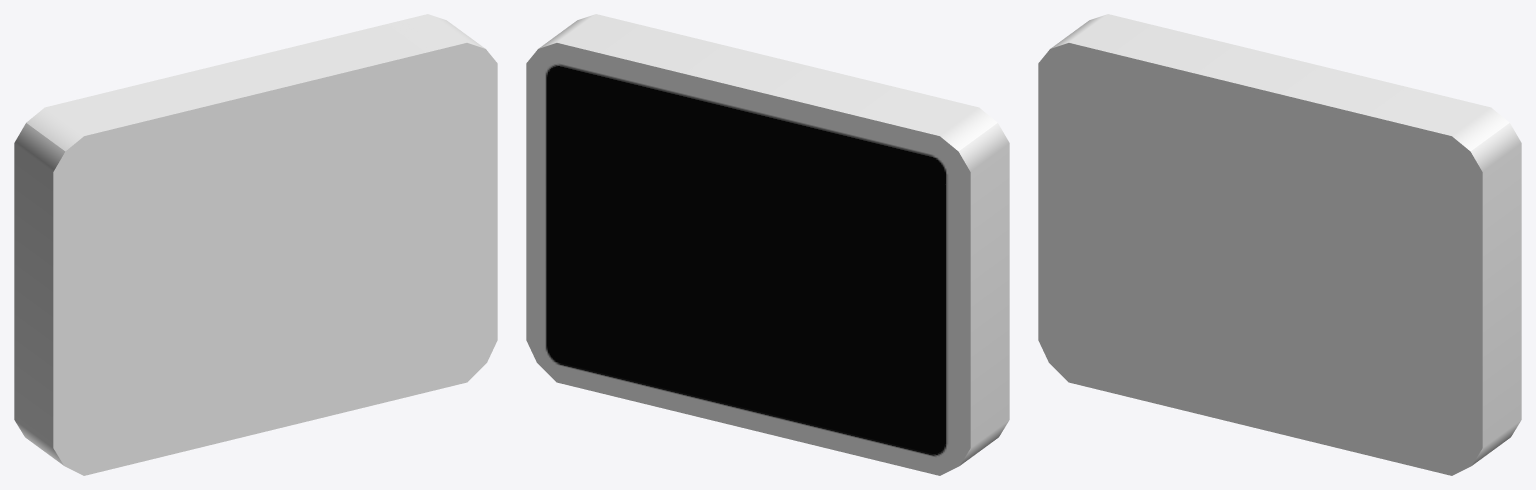
The model's file is screen.fbx.
3 renders of one model, left to right at view 1: azimuth 30°, elevation 25°; view 2: azimuth 150°, elevation 25°; view 3: azimuth 330°, elevation 25°, orthographic.
Parts seen in each view (by area): view 1: monitor_screen; view 2: monitor_screen; view 3: monitor_screen.
Part boxes in pixels (x1=…): monitor_screen: x1=14, y1=14, x2=497, y2=475; monitor_screen: x1=526, y1=14, x2=1009, y2=475; monitor_screen: x1=1038, y1=14, x2=1521, y2=475.
Size of the model in its own units: 0.9936 by 0.726 by 0.1521.
